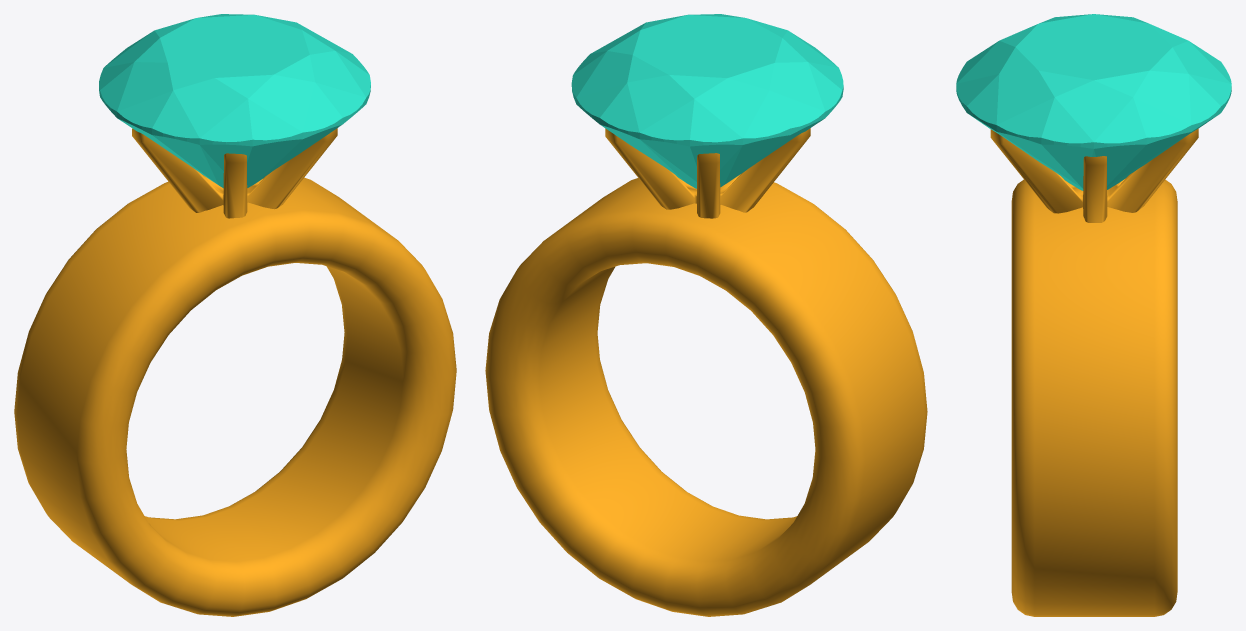
File: yuzuk.fbx
The picture shows the model from 3 angles, left to right: view 1: azimuth 30°, elevation 25°; view 2: azimuth 150°, elevation 25°; view 3: azimuth 270°, elevation 25°; orthographic projection.
Parts seen in each view (by area): view 1: yuzuk; view 2: yuzuk; view 3: yuzuk.
Part boxes in pixels (left/top/right/bottom): yuzuk: left=14, top=14, right=456, bottom=616; yuzuk: left=485, top=14, right=927, bottom=616; yuzuk: left=956, top=14, right=1231, bottom=616.
Bounding box in the file's own units: 34.32 × 47.16 × 21.44.
